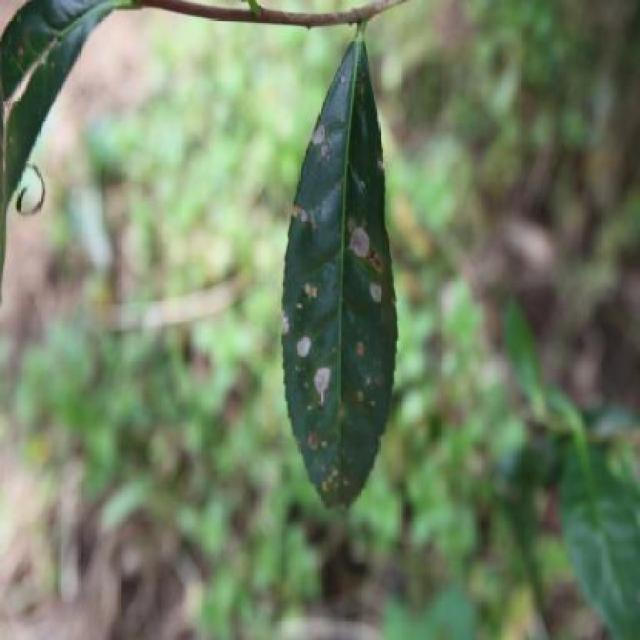Leaf rust of tea: (280, 28, 403, 509)
